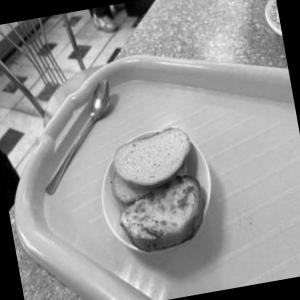bread: (95, 122, 223, 202)
cheese_sandwich: (95, 173, 230, 262)
